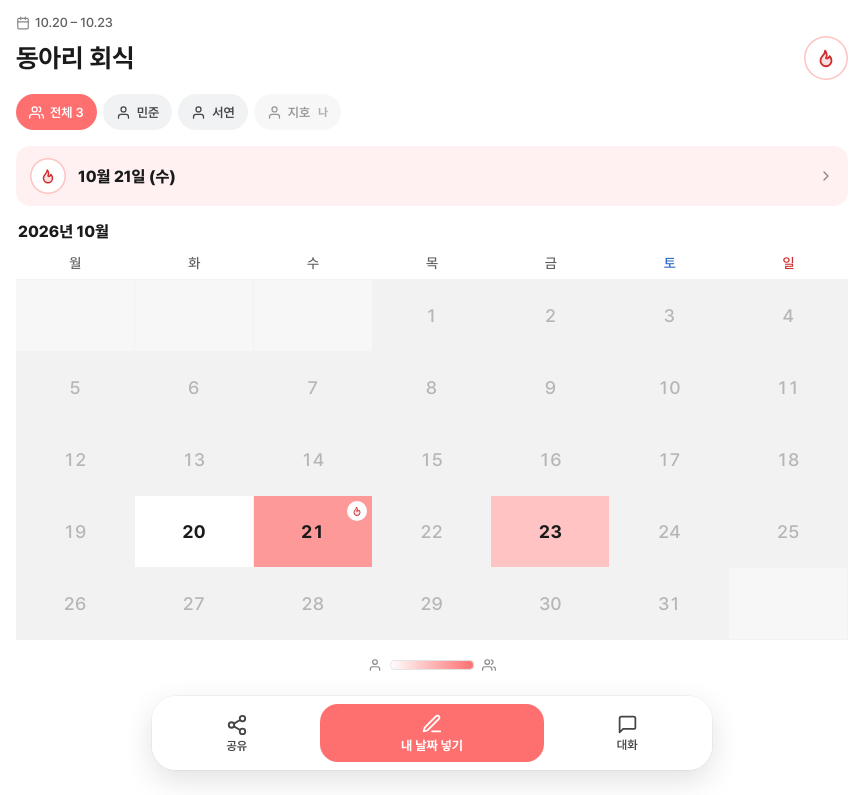
Scenario: 끌어서 여러 날 고르기(2026-10-10) › 손가락: 누르고 떼면 한 칸, 옆으로 밀면 지나간 날을 칠한다
The image size is (865, 795).
Expected: the heading "동아리 회식" is shown, [16,42,134,74]
Click the button "내 날짜 넣기": (432, 733) [320,704,544,762]
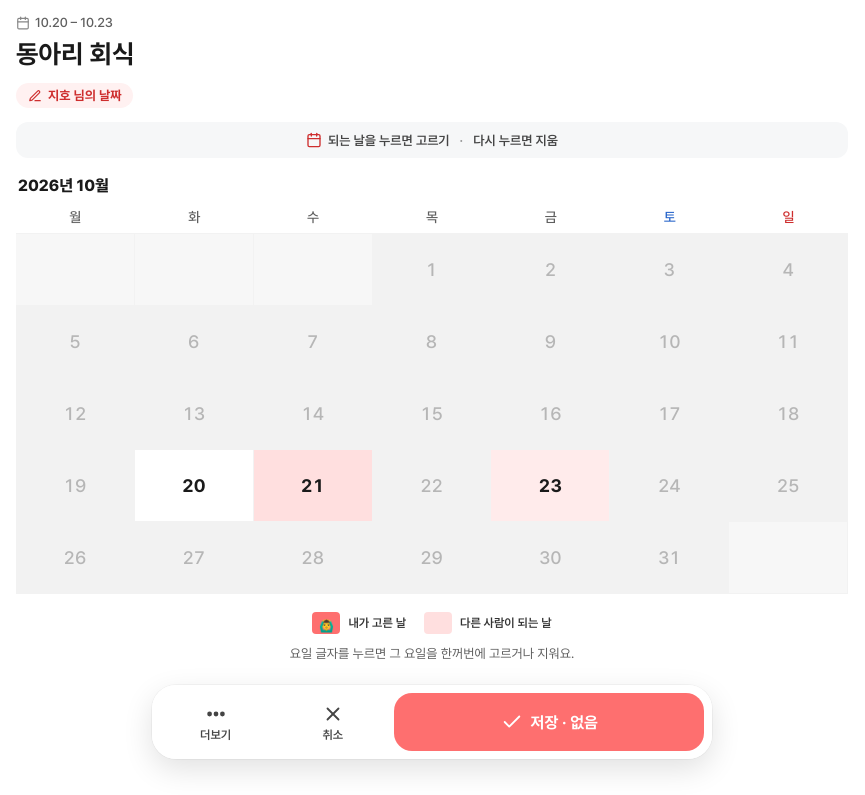
Press the mouse on the button "23": (551, 486) [491,450,610,522]
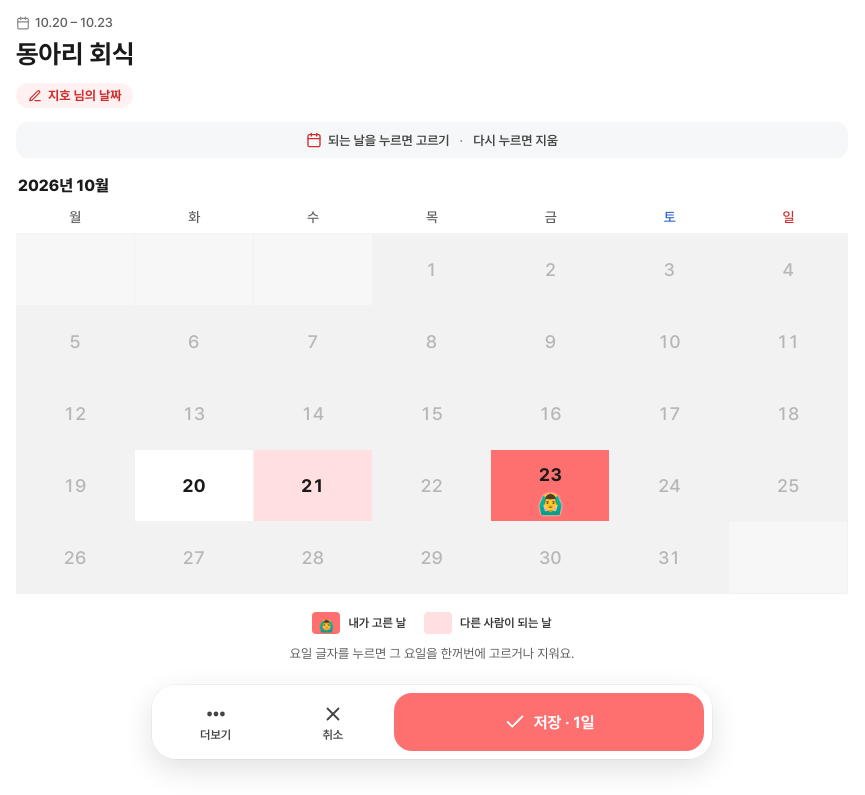
Press the mouse on the button "20": (194, 486) [135,450,254,522]
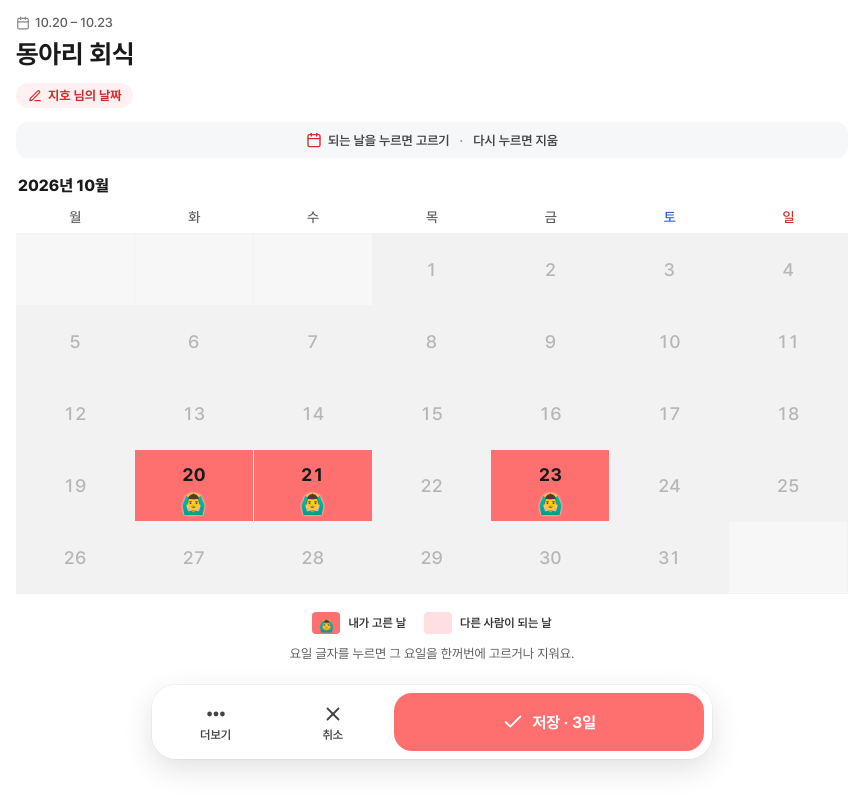
Expected: the button with aria-label "저장하기, 3일" is shown, [394,693,704,751]
